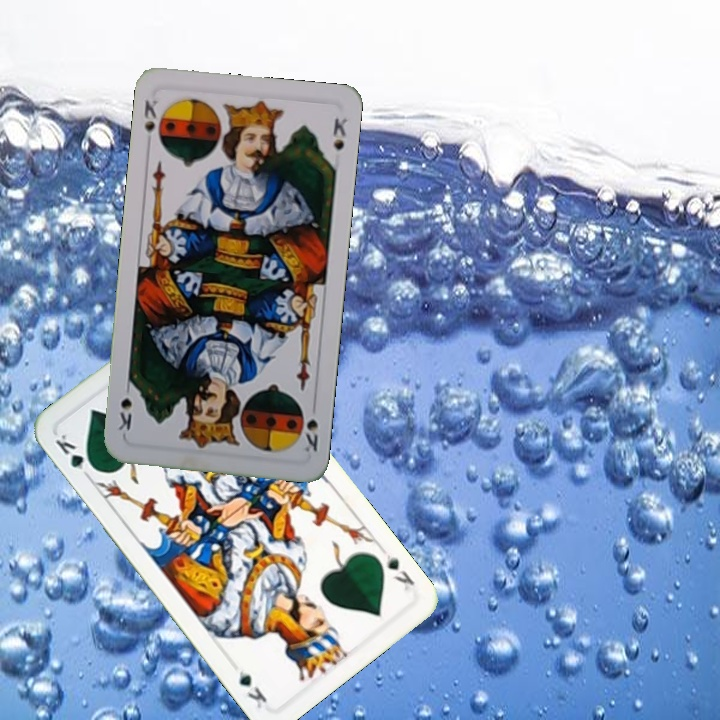GK: (51, 430, 99, 481), (382, 550, 417, 594)
SK: (295, 401, 321, 455), (140, 95, 160, 150)
